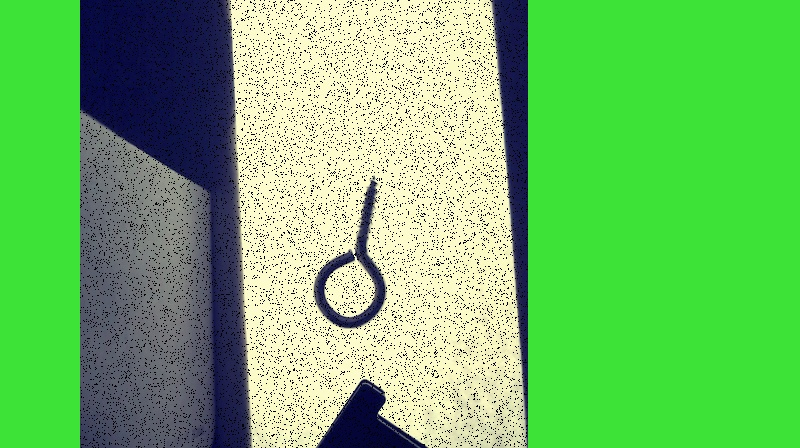O001: (310, 172, 386, 331)
O002: (304, 378, 502, 447)
